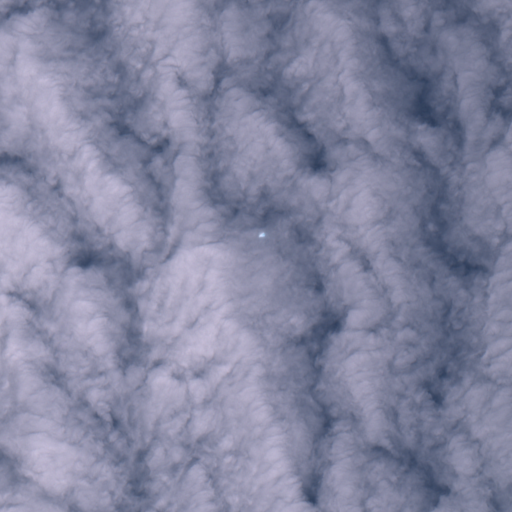Iceberg: (259, 233, 264, 236)
